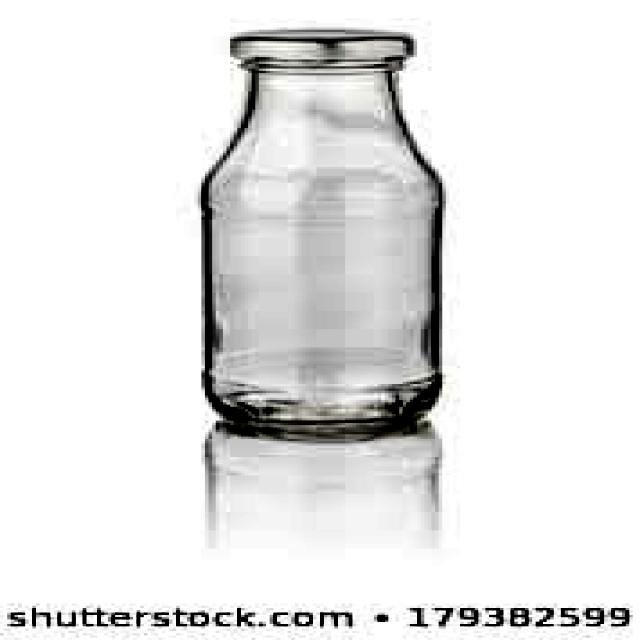Glass: (185, 27, 450, 431)
